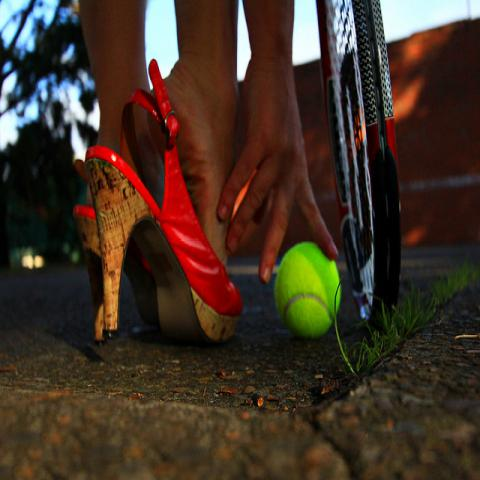car: (19, 239, 80, 269)
